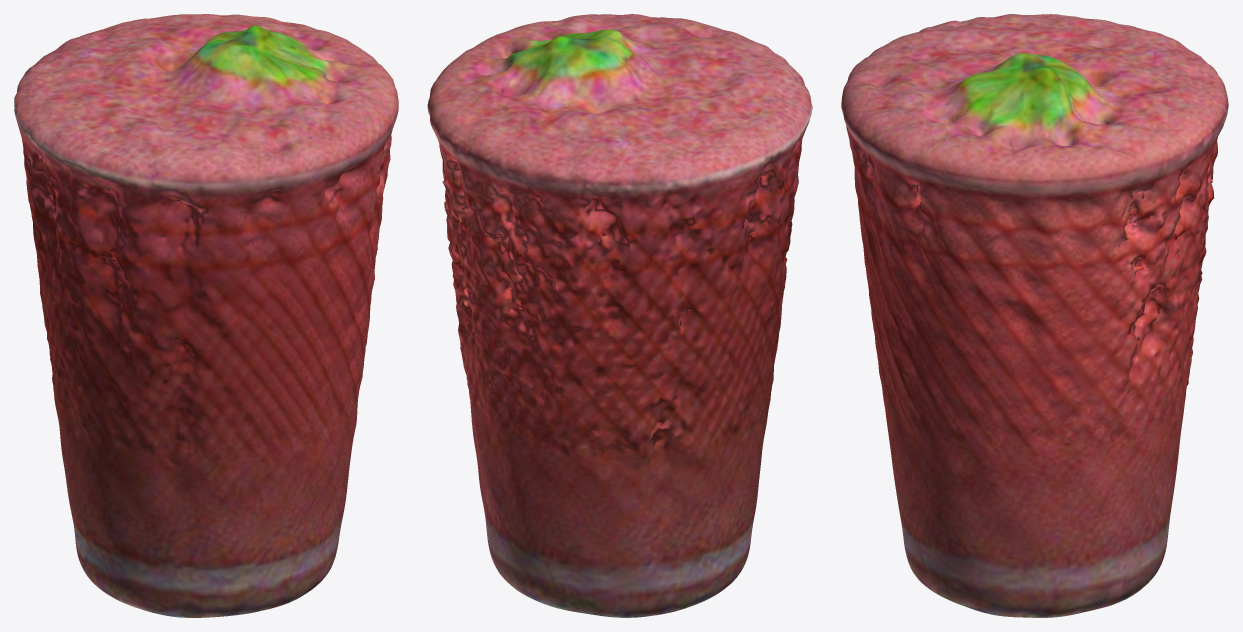
File: Banner.glb
3 views of the same model, side by side, from view 1: azimuth 30°, elevation 25°; view 2: azimuth 150°, elevation 25°; view 3: azimuth 270°, elevation 25° (orthographic).
Parts seen in each view (by area): view 1: Mesh1; view 2: Mesh1; view 3: Mesh1.
Boxes of the visible parts, x1,y1,x2,y2 form: Mesh1: (14, 14, 398, 617); Mesh1: (427, 14, 812, 617); Mesh1: (841, 14, 1228, 617).
Size of the model in its own units: 0.7779 by 1.2 by 0.7803.
Materials: 1 (1 with a texture image).
